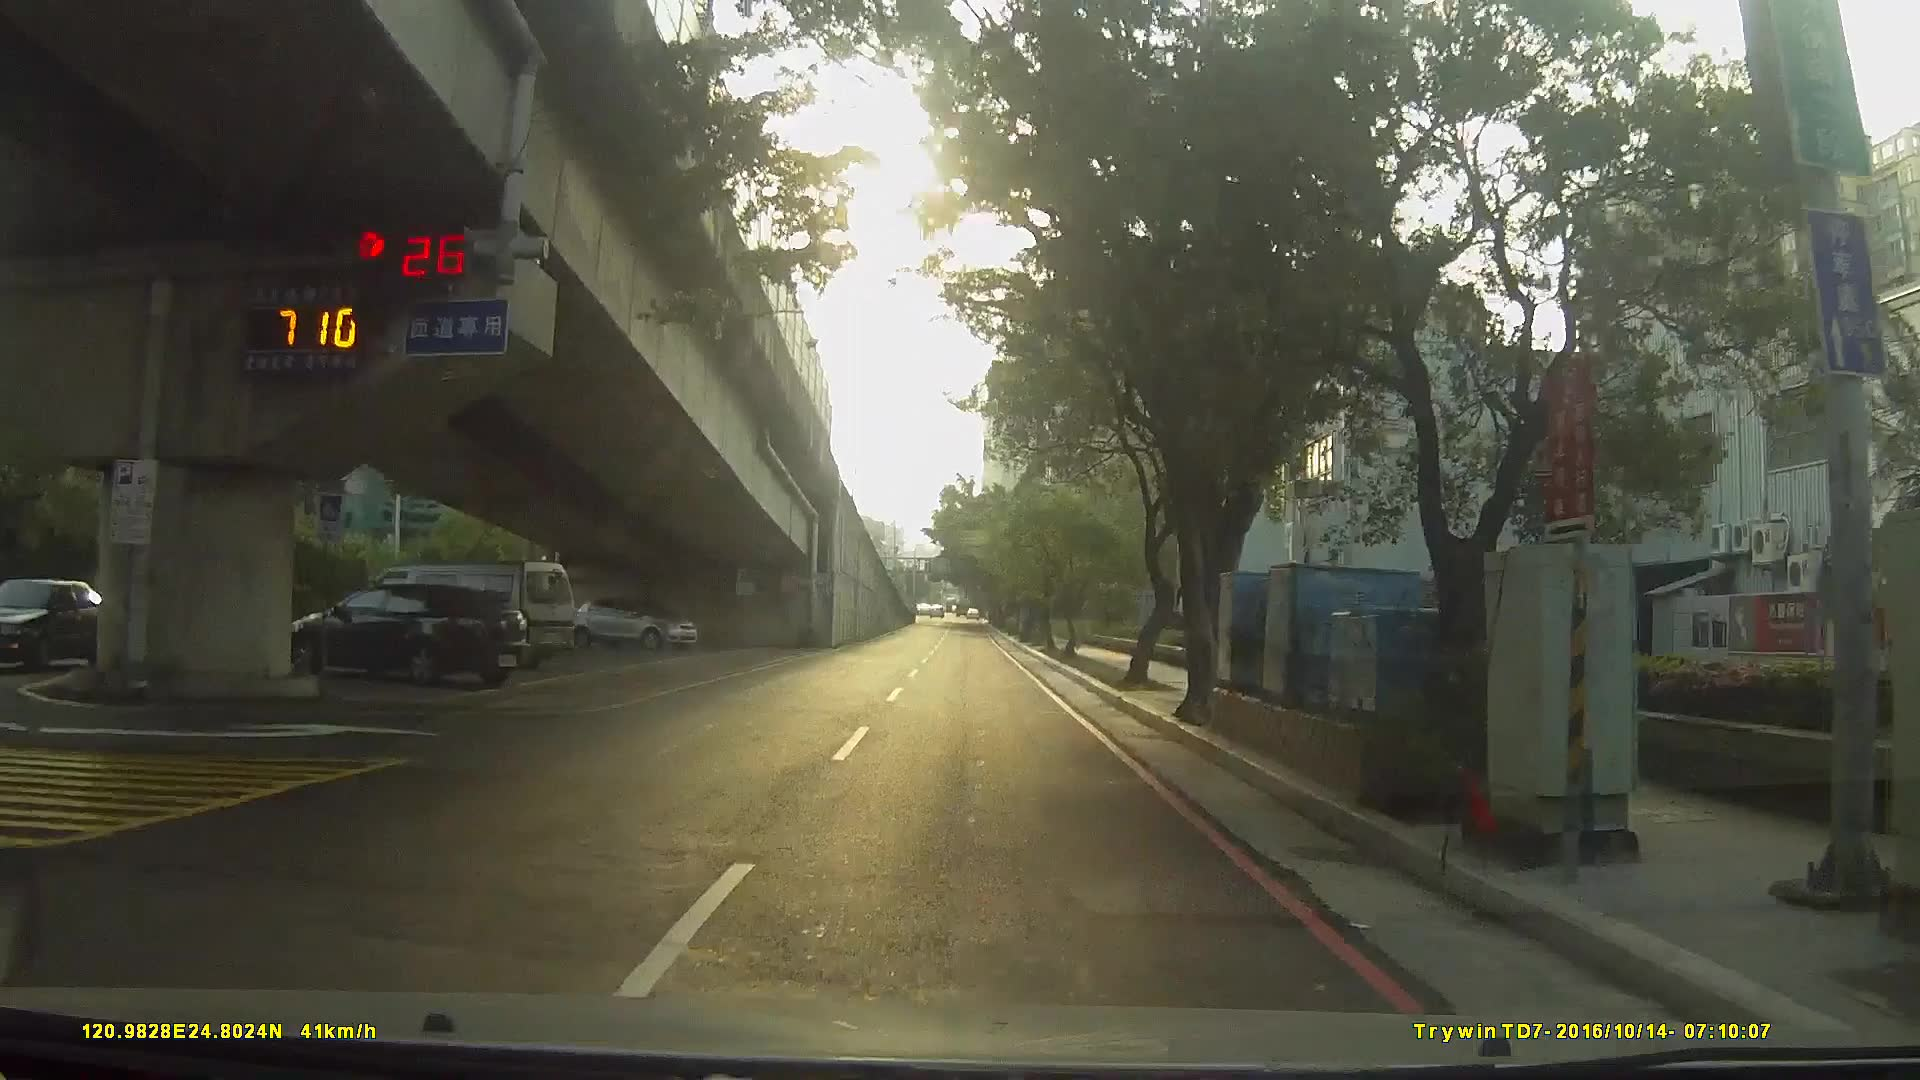vehicle: (345, 551, 585, 674), (266, 582, 524, 691), (5, 579, 131, 676), (568, 593, 698, 651)
